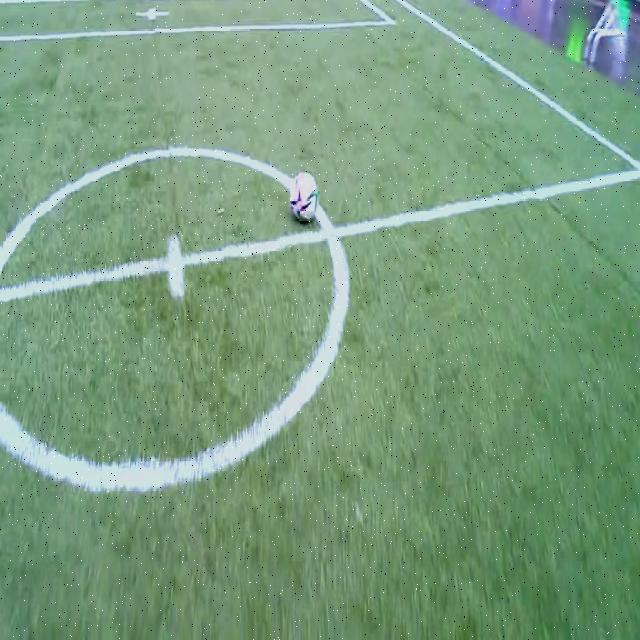ball: (290, 171, 319, 222)
